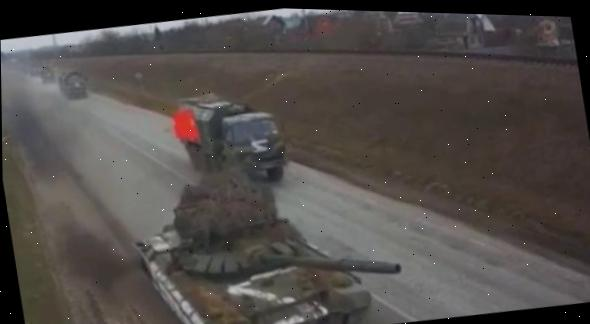tank: (120, 144, 412, 324)
truck: (174, 85, 289, 195), (57, 68, 89, 103), (38, 63, 56, 87)
